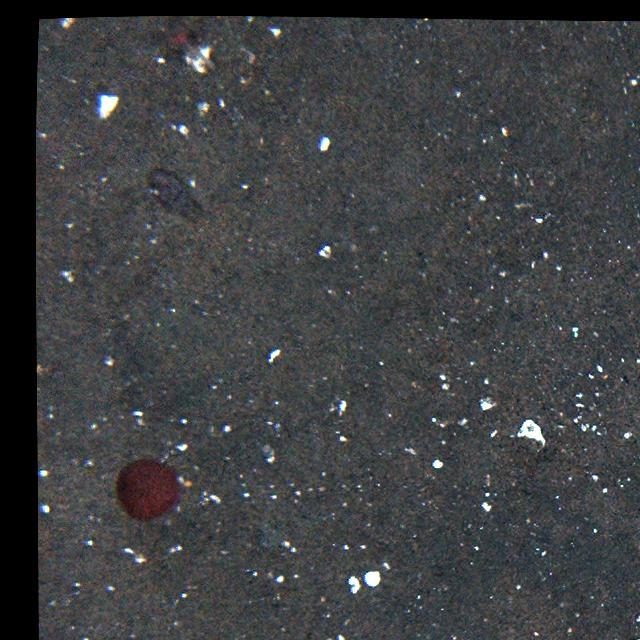flatfish: (145, 170, 210, 226)
